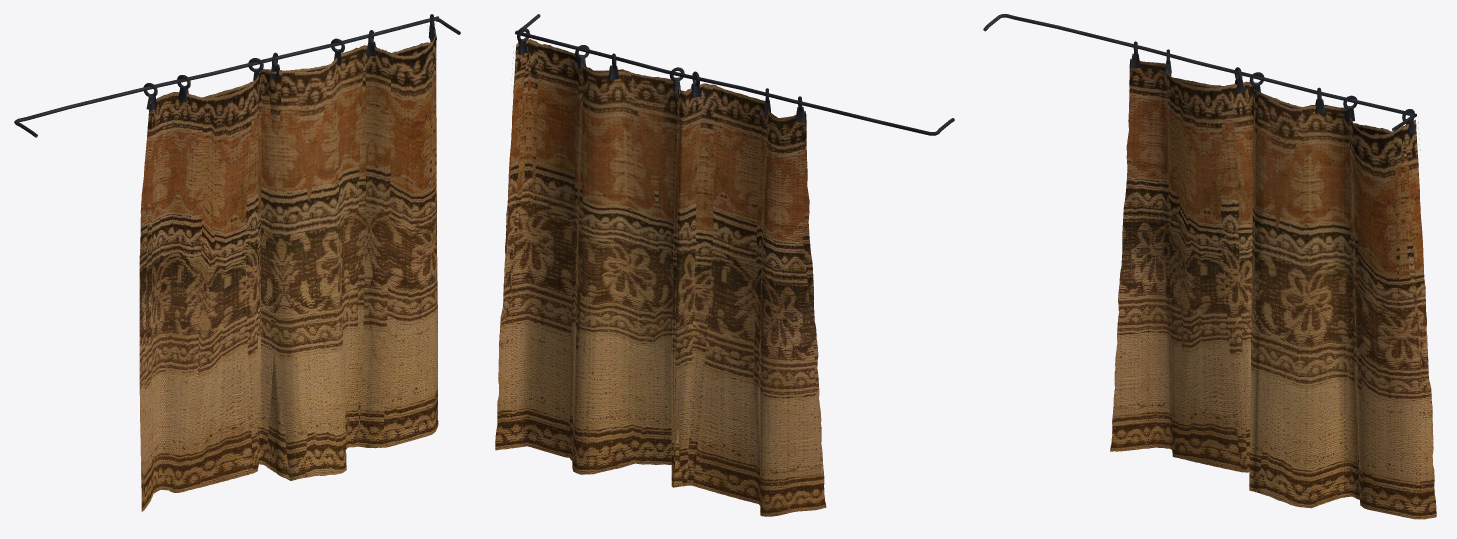
Rendered from curtains_Small02.fbx.
3 renders of one model, left to right at view 1: azimuth 30°, elevation 25°; view 2: azimuth 150°, elevation 25°; view 3: azimuth 330°, elevation 25°, orthographic. The views are drawn at different scales.
Parts seen in each view (by area): view 1: Low, Hi, polySurface115; view 2: Hi, Low, polySurface115; view 3: Low, Hi, polySurface115.
Boxes of the visible parts, box(x1,y1,x2,y2) form: Low: box(142, 29, 437, 511); Hi: box(139, 26, 438, 511); polySurface115: box(14, 14, 460, 137); Hi: box(495, 39, 826, 516); Low: box(495, 39, 824, 512); polySurface115: box(515, 14, 954, 135); Low: box(1110, 58, 1433, 517); Hi: box(1110, 61, 1436, 519); polySurface115: box(983, 14, 1416, 134).
Bounding box in the file's own units: 107 × 100 × 14.86.
